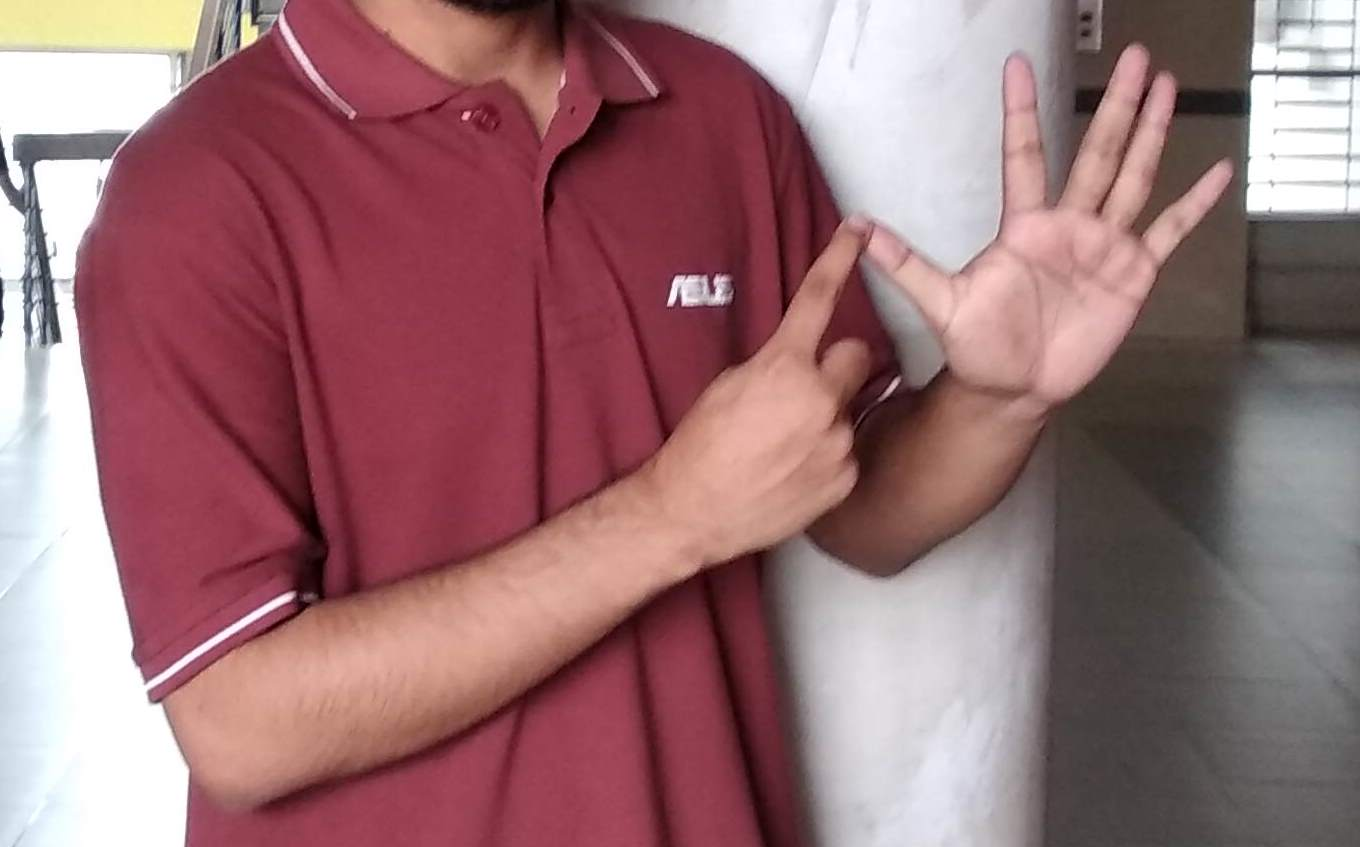a: (745, 42, 1198, 556)
